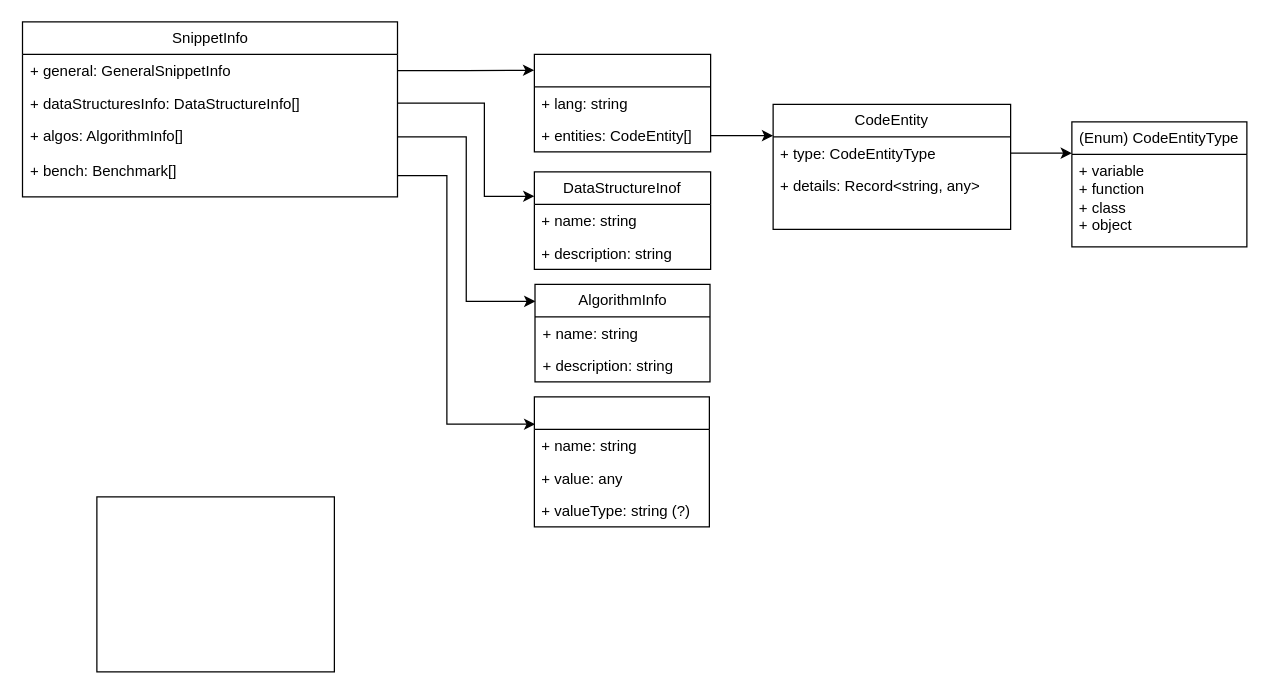
The diagram is 1269 pixels wide and 694 high, and some of its shapes have lost their labels. The shapes that lost their labels are listed below. From the top down, each one's box as (x1, y1, x2, y2) in pixels, then its label:
(533, 53, 711, 152): GeneralSnippetInfo
(533, 396, 709, 527): Benchmark
(96, 496, 334, 672): <<Interface>> Adapter + getInfo(string): Promise<SnippetInof>
